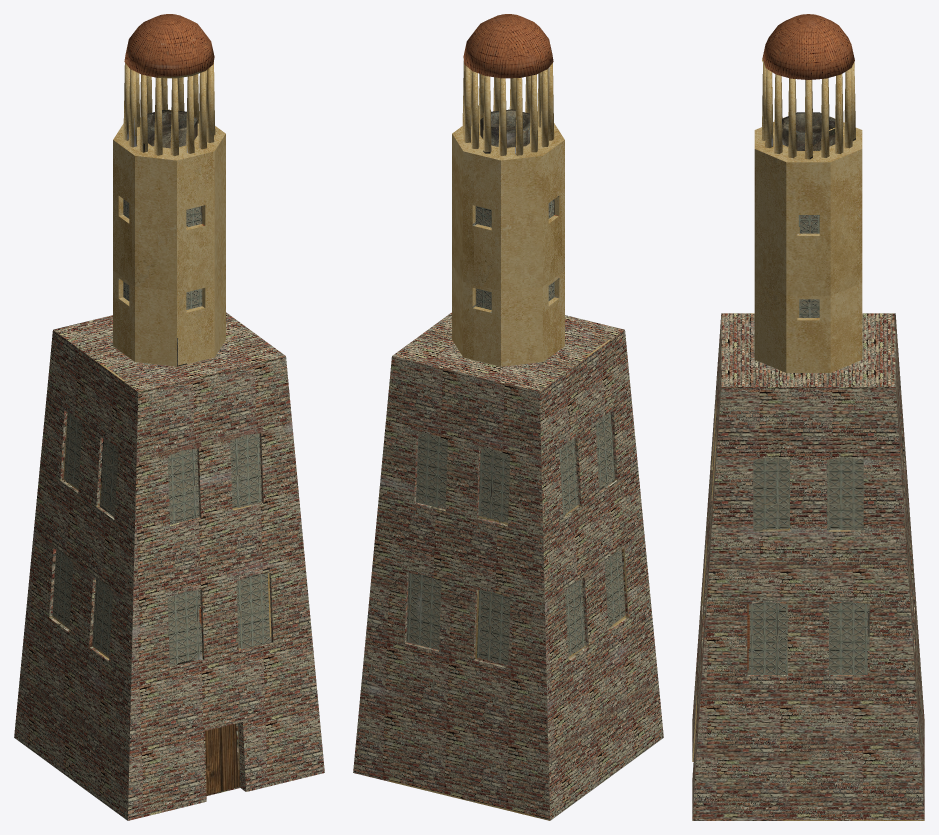
The model's file is roman_watchtower.glb.
3 views of the same model, side by side, from view 1: azimuth 30°, elevation 25°; view 2: azimuth 150°, elevation 25°; view 3: azimuth 270°, elevation 25° (orthographic). The views are drawn at different scales.
Visible parts, largest first — view 1: lighthouse.001_0; view 2: lighthouse.001_0; view 3: lighthouse.001_0.
Boxes of the visible parts, x1,y1,x2,y2 form: lighthouse.001_0: [14, 14, 324, 820]; lighthouse.001_0: [353, 14, 663, 820]; lighthouse.001_0: [692, 14, 924, 820].
Size of the model in its own units: 0.5381 by 1.92 by 0.5381.
Materials: 1 (1 with a texture image).
